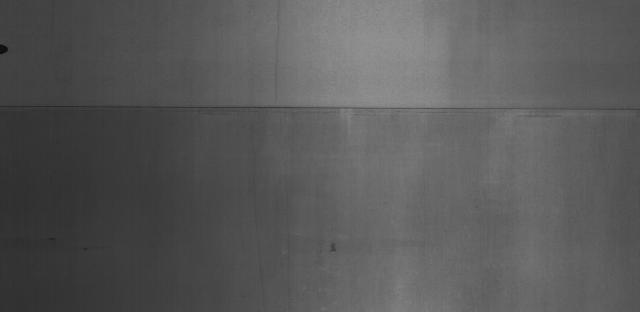punching_hole: (0, 34, 13, 60)
welding_line: (1, 91, 640, 117)
